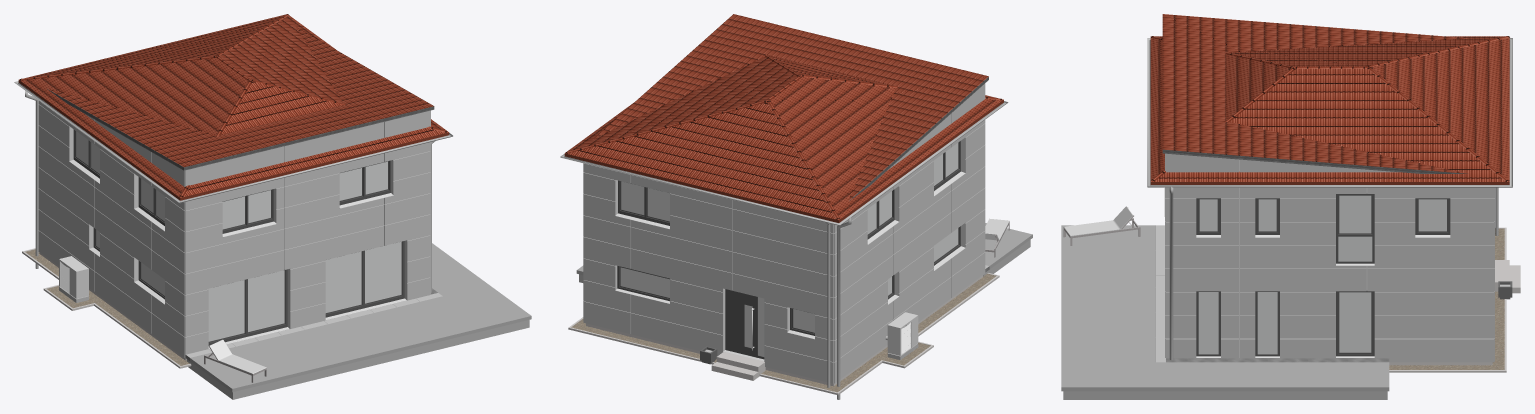
File: building_001.dae
3 views of the same model, side by side, from view 1: azimuth 30°, elevation 25°; view 2: azimuth 150°, elevation 25°; view 3: azimuth 270°, elevation 25° (orthographic). The views are drawn at different scales.
Visible parts, largest first — view 1: roof_001, terrasa, plane_wall_007, roof_000, plane_wall_002, plane_wall_003, plane_wall_006, window_000, window_001, plane_wall_009, Geschossd5, Gutter_Dac (+11 smaller); view 2: roof_001, roof_000, plane_wall_001, plane_wall_005, plane_wall_002, plane_wall_006, gravel_ground, LUXHAUS-Ei, Gutter_Dac, window_010, Allgemein1, window_009 (+13 smaller); view 3: roof_001, plane_wall_000, terrasa, plane_wall_004, roof_000, Gutter_Dac, Geschossd5, window_015, window_011, plane_wall_010, grid, window_013 (+8 smaller).
Boxes of the visible parts, x1=… form: roof_001: x1=18, y1=14, x2=449, y2=200; terrasa: x1=190, y1=243, x2=531, y2=392; plane_wall_007: x1=185, y1=142, x2=430, y2=273; roof_000: x1=46, y1=27, x2=434, y2=170; plane_wall_002: x1=38, y1=167, x2=185, y2=357; plane_wall_003: x1=185, y1=214, x2=430, y2=354; plane_wall_006: x1=38, y1=101, x2=185, y2=273; window_000: x1=325, y1=241, x2=406, y2=319; window_001: x1=208, y1=269, x2=289, y2=348; plane_wall_009: x1=185, y1=110, x2=430, y2=186; Geschossd5: x1=186, y1=320, x2=529, y2=399; Gutter_Dac: x1=14, y1=81, x2=453, y2=292; roof_001: x1=564, y1=54, x2=1003, y2=222; roof_000: x1=593, y1=14, x2=988, y2=201; plane_wall_001: x1=583, y1=237, x2=833, y2=383; plane_wall_005: x1=583, y1=163, x2=833, y2=297; plane_wall_002: x1=834, y1=188, x2=985, y2=383; plane_wall_006: x1=834, y1=120, x2=985, y2=297; gravel_ground: x1=571, y1=273, x2=995, y2=392; LUXHAUS-Ei: x1=725, y1=289, x2=764, y2=359; Gutter_Dac: x1=560, y1=101, x2=1008, y2=399; window_010: x1=615, y1=180, x2=669, y2=229; Allgemein1: x1=568, y1=273, x2=999, y2=395; window_009: x1=615, y1=266, x2=669, y2=303; roof_001: x1=1150, y1=36, x2=1509, y2=184; plane_wall_000: x1=1166, y1=268, x2=1493, y2=362; terrasa: x1=1061, y1=225, x2=1389, y2=391; plane_wall_004: x1=1166, y1=187, x2=1493, y2=268; roof_000: x1=1162, y1=14, x2=1467, y2=173; Gutter_Dac: x1=1147, y1=38, x2=1512, y2=360; Geschossd5: x1=1063, y1=391, x2=1387, y2=399; window_015: x1=1336, y1=194, x2=1374, y2=265; window_011: x1=1336, y1=291, x2=1374, y2=357; plane_wall_010: x1=1166, y1=153, x2=1398, y2=172; grid: x1=1156, y1=225, x2=1389, y2=362; window_013: x1=1196, y1=291, x2=1220, y2=357.
Size of what is drawn, in the model's own units: 6.7 by 7.25 by 4.31.
